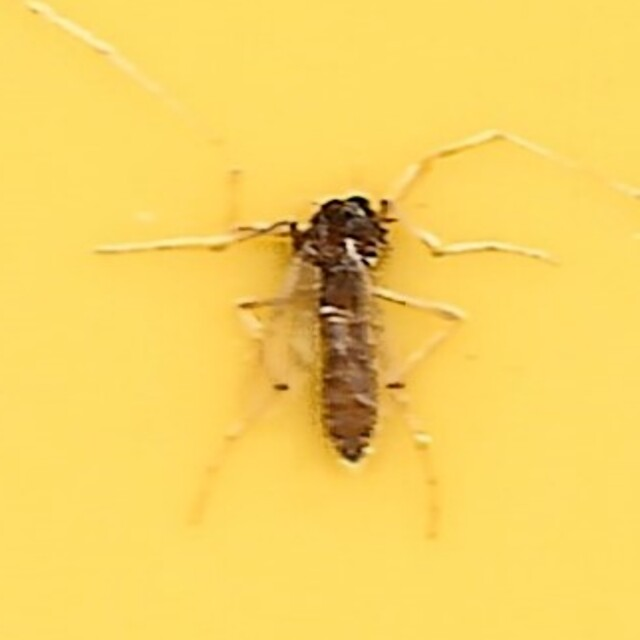Nematocera: (199, 172, 441, 468)
